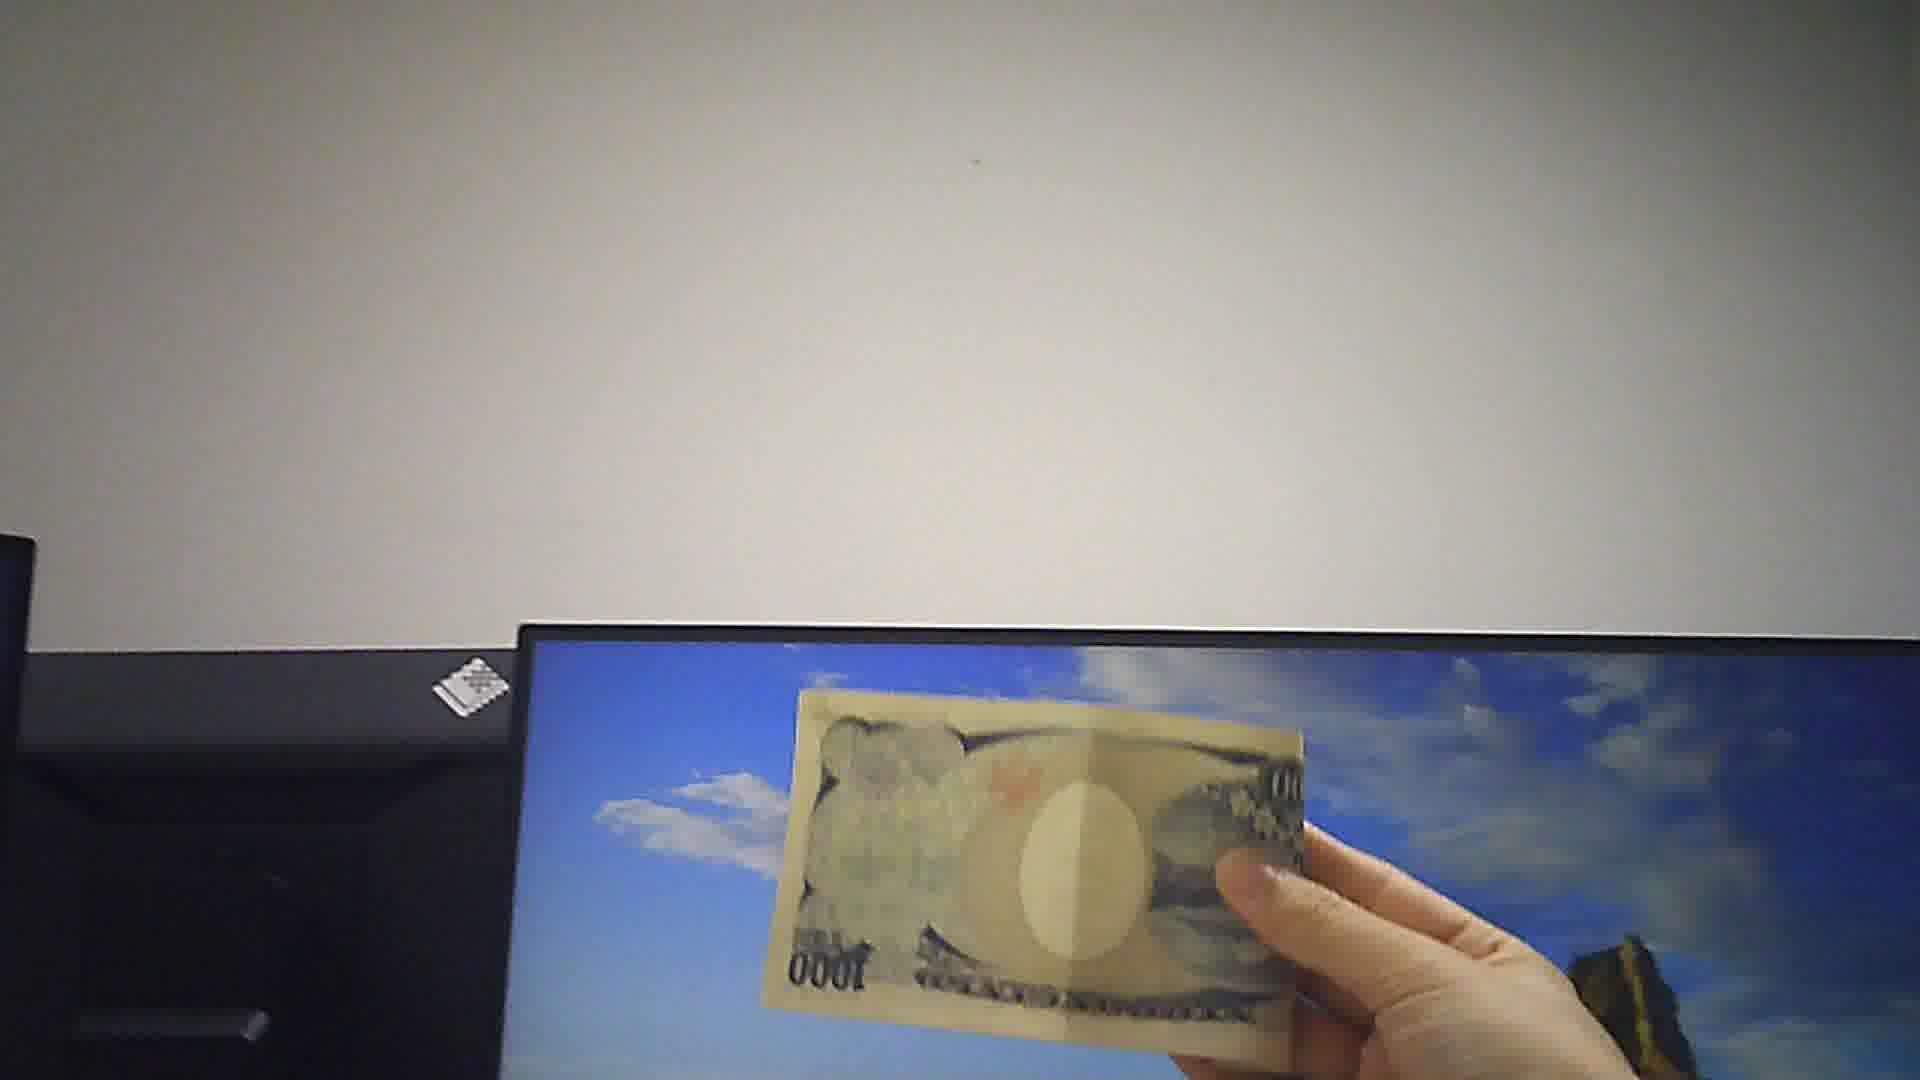1,000 Yen: (762, 688, 1328, 1068)
